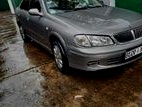car: (12, 0, 142, 73)
